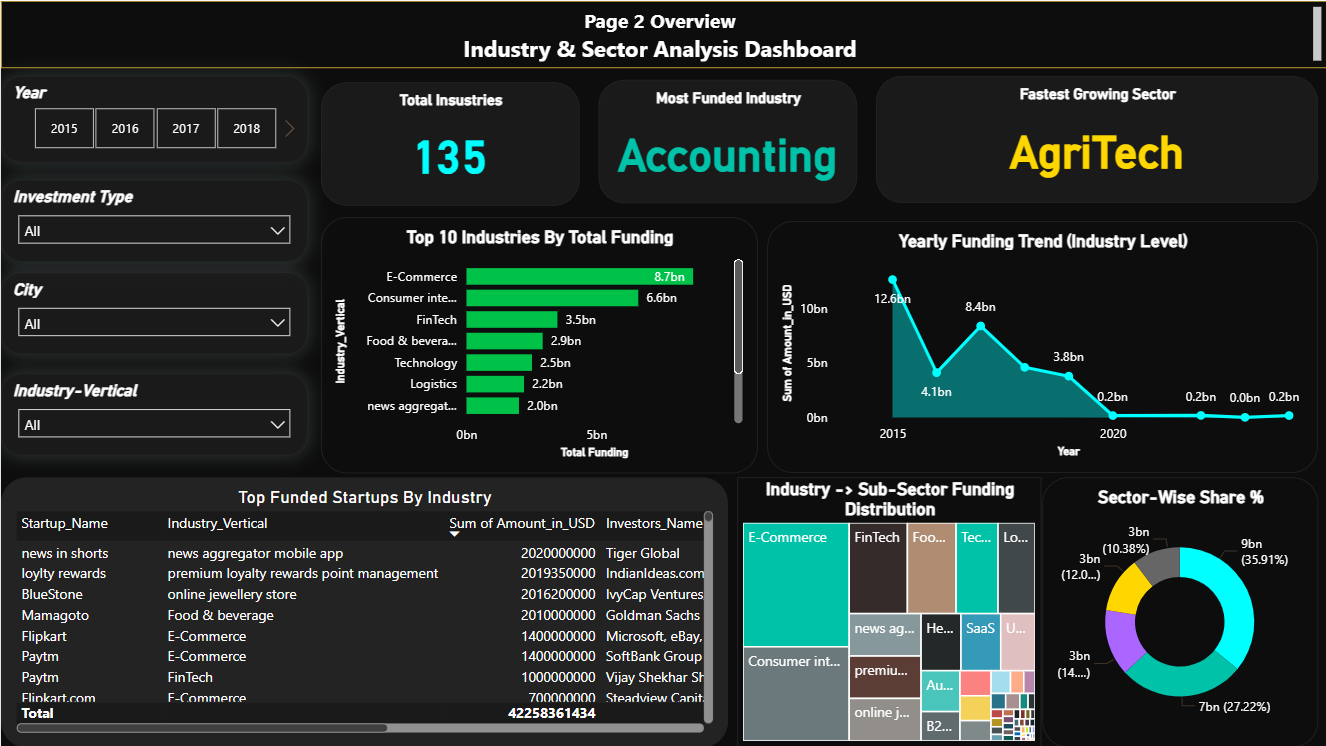

This screenshot's page, from the dashboard's own definition file:
{"tool":"powerbi","page":{"name":"Industry & Sector Analysis Dashboard","canvas":[1280,720],"ordinal":1},"visuals":[{"type":"card","title":"Total Insustries","fields":{"Values":["Count(cleaned_startup_funding_2015_2024_raw.Industry_Vertical)"]},"box":[308.7,78.2,249.7,119.4],"z":0},{"type":"card","title":"Most Funded Industry","fields":{"Values":["Min(cleaned_startup_funding_2015_2024_raw.Industry_Vertical)"]},"box":[576.3,75.5,249.7,119.4],"z":1000},{"type":"card","title":"Fastest Growing Sector","fields":{"Values":["DateTable.Top Growing Sector"]},"box":[843.9,72.7,426.8,122.1],"z":2000},{"type":"barChart","title":"Top 10 Industries By Total Funding","fields":{"Y":["cleaned_startup_funding_2015_2024_raw.Total Funding"],"Category":["cleaned_startup_funding_2015_2024_raw.Industry_Vertical"]},"box":[308.7,208.6,421.3,247],"z":3000},{"type":"lineChart","title":"Yearly Funding Trend (Industry Level)","fields":{"Y":["Sum(cleaned_startup_funding_2015_2024_raw.Amount_in_USD)"],"Category":["cleaned_startup_funding_2015_2024_raw.Year"]},"box":[739.6,212.7,531,242.9],"z":4000},{"type":"donutChart","title":"Sector-Wise Share %","fields":{"Category":["cleaned_startup_funding_2015_2024_raw.Industry_Vertical"],"Y":["Sum(cleaned_startup_funding_2015_2024_raw.Amount_in_USD)"]},"box":[1004.5,459.7,266.2,260.7],"z":5000},{"type":"treemap","title":"Industry -> Sub-Sector Funding Distribution","fields":{"Values":["Sum(cleaned_startup_funding_2015_2024_raw.Amount_in_USD)"],"Group":["cleaned_startup_funding_2015_2024_raw.Industry_Vertical","cleaned_startup_funding_2015_2024_raw.SubVertical"]},"box":[710.8,459.7,293.7,260.7],"z":6000},{"type":"tableEx","title":"Top Funded Startups By Industry","fields":{"Values":["cleaned_startup_funding_2015_2024_raw.Startup_Name","cleaned_startup_funding_2015_2024_raw.Industry_Vertical","Sum(cleaned_startup_funding_2015_2024_raw.Amount_in_USD)","cleaned_startup_funding_2015_2024_raw.Investors_Name"]},"box":[0,459.7,701.2,260.7],"z":7000},{"type":"textbox","box":[0,0,1280.3,64.5],"z":8000},{"type":"slicer","title":"Year","fields":{"Values":["cleaned_startup_funding_2015_2024_raw.Year"]},"box":[0,72.7,296.4,83.7],"z":9000},{"type":"slicer","title":"Industry-Vertical","fields":{"Values":["cleaned_startup_funding_2015_2024_raw.Industry_Vertical"]},"box":[0,359.5,296.4,79.6],"z":10000},{"type":"slicer","title":"City","fields":{"Values":["cleaned_startup_funding_2015_2024_raw.City_Location"]},"box":[0,262.1,296.4,79.6],"z":11000},{"type":"slicer","title":"Investment Type","fields":{"Values":["cleaned_startup_funding_2015_2024_raw.InvestmentnType"]},"box":[0,172.9,296.4,79.6],"z":12000}]}

Visuals, with their boxes in screenshot pixels (x1, y1, x2, y2), scaled from the page's 1280x720 canvas onto the 1326x746 screenshot:
"Total Insustries" card: rect(320, 81, 578, 205)
"Most Funded Industry" card: rect(597, 78, 856, 202)
"Fastest Growing Sector" card: rect(874, 75, 1316, 202)
"Top 10 Industries By Total Funding" barChart: rect(320, 216, 756, 472)
"Yearly Funding Trend (Industry Level)" lineChart: rect(766, 220, 1316, 472)
"Sector-Wise Share %" donutChart: rect(1041, 476, 1316, 745)
"Industry -> Sub-Sector Funding Distribution" treemap: rect(736, 476, 1041, 745)
"Top Funded Startups By Industry" tableEx: rect(0, 476, 726, 745)
textbox: rect(0, 0, 1325, 67)
"Year" slicer: rect(0, 75, 307, 162)
"Industry-Vertical" slicer: rect(0, 372, 307, 455)
"City" slicer: rect(0, 272, 307, 354)
"Investment Type" slicer: rect(0, 179, 307, 262)
